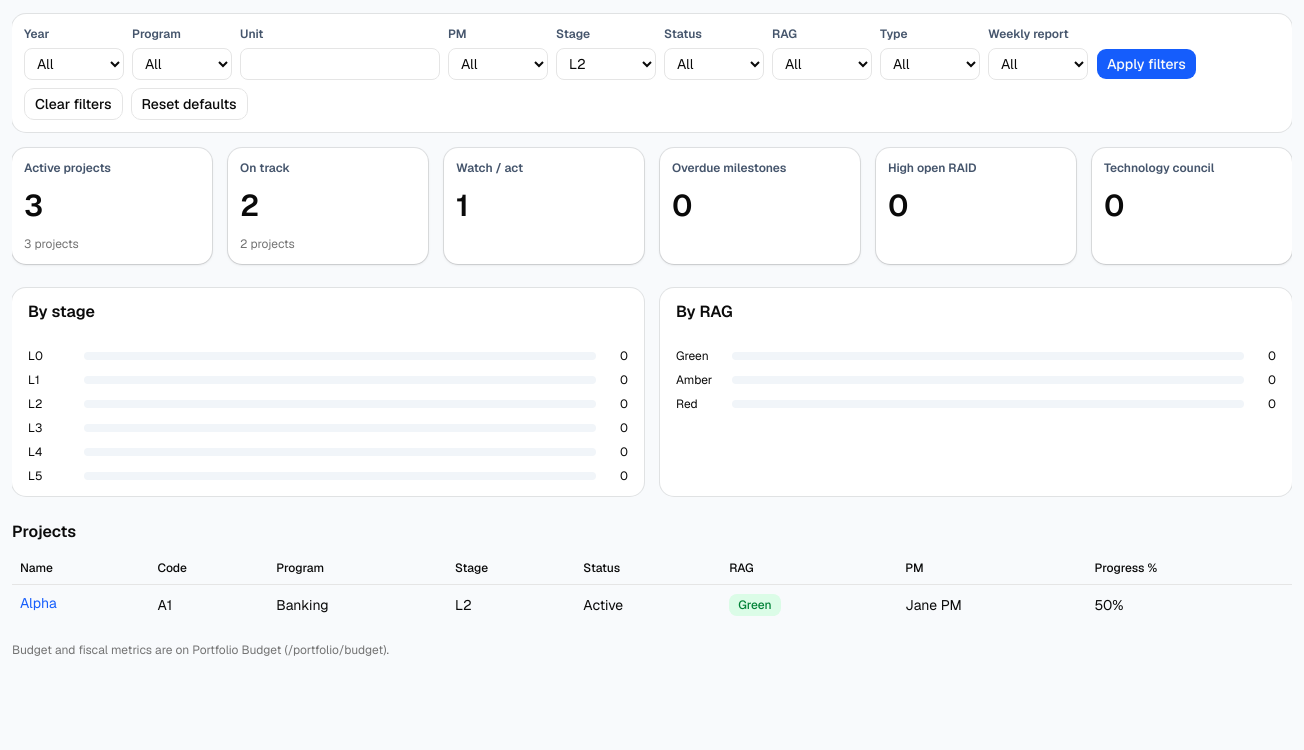
Test case: PortfolioDashboardPage › omits milestone link when project_id is missing
Expected: the element with test id "spec-kpi-row" is shown, x1=12 y1=148 x2=1292 y2=264
Click the button "Overdue milestones 0": click(760, 206) x1=660 y1=148 x2=860 y2=264
(page scrolled)
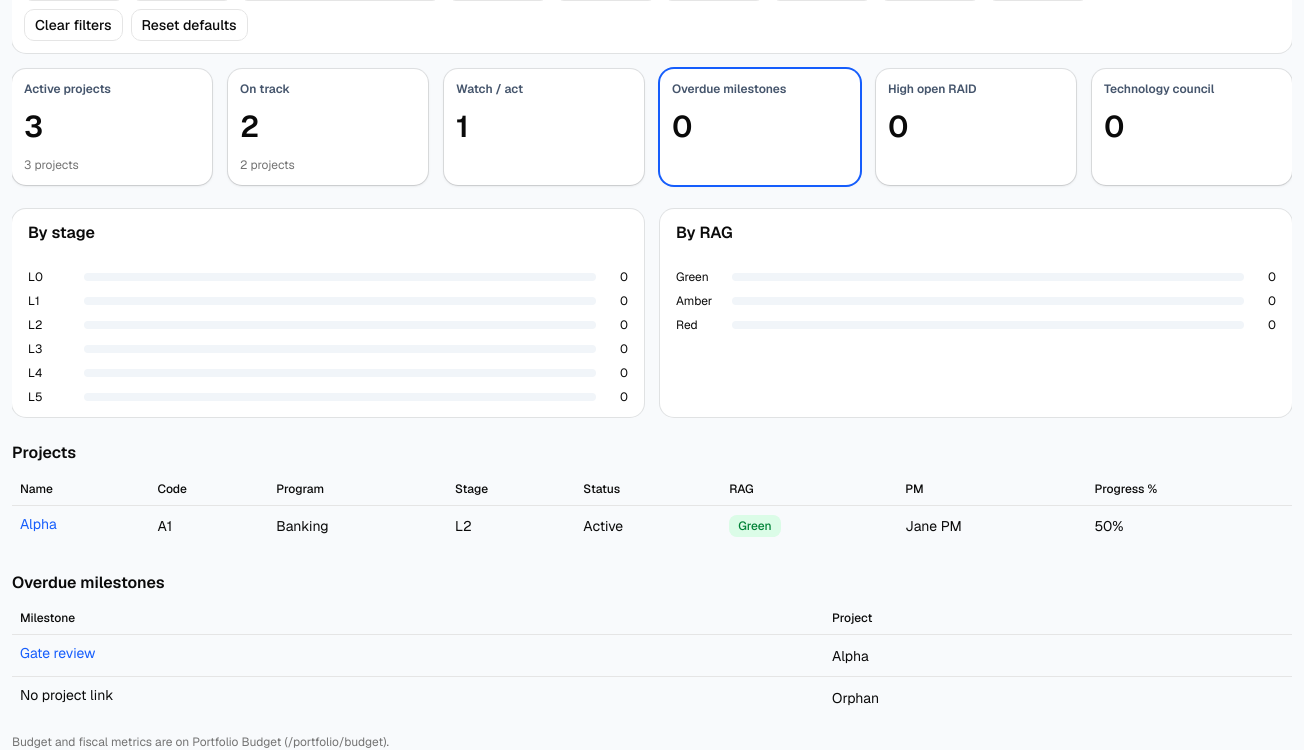
Expected: the text "No project link" is shown, x1=20 y1=685 x2=114 y2=705
